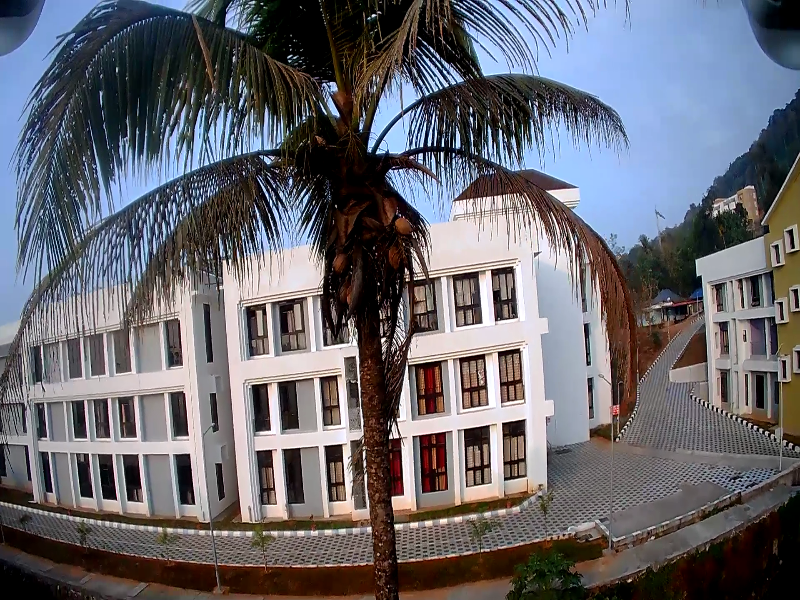coconut: (329, 247, 355, 277), (382, 241, 405, 268), (393, 213, 415, 234), (336, 289, 361, 307)
